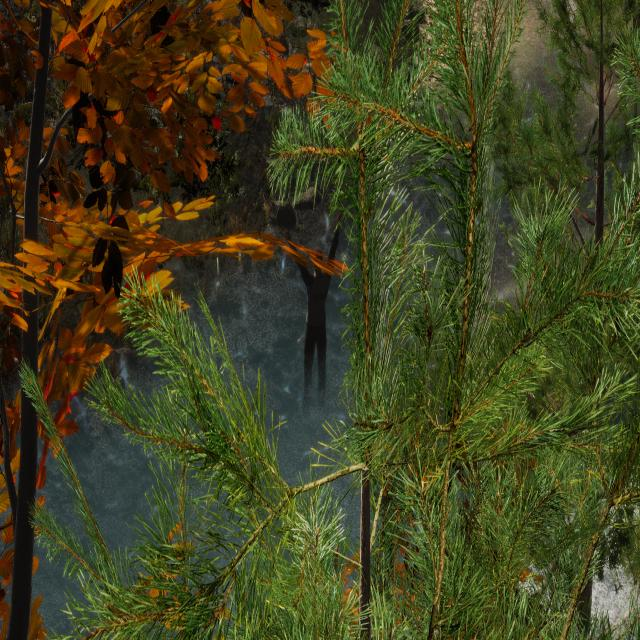Human: (280, 211, 346, 437)
